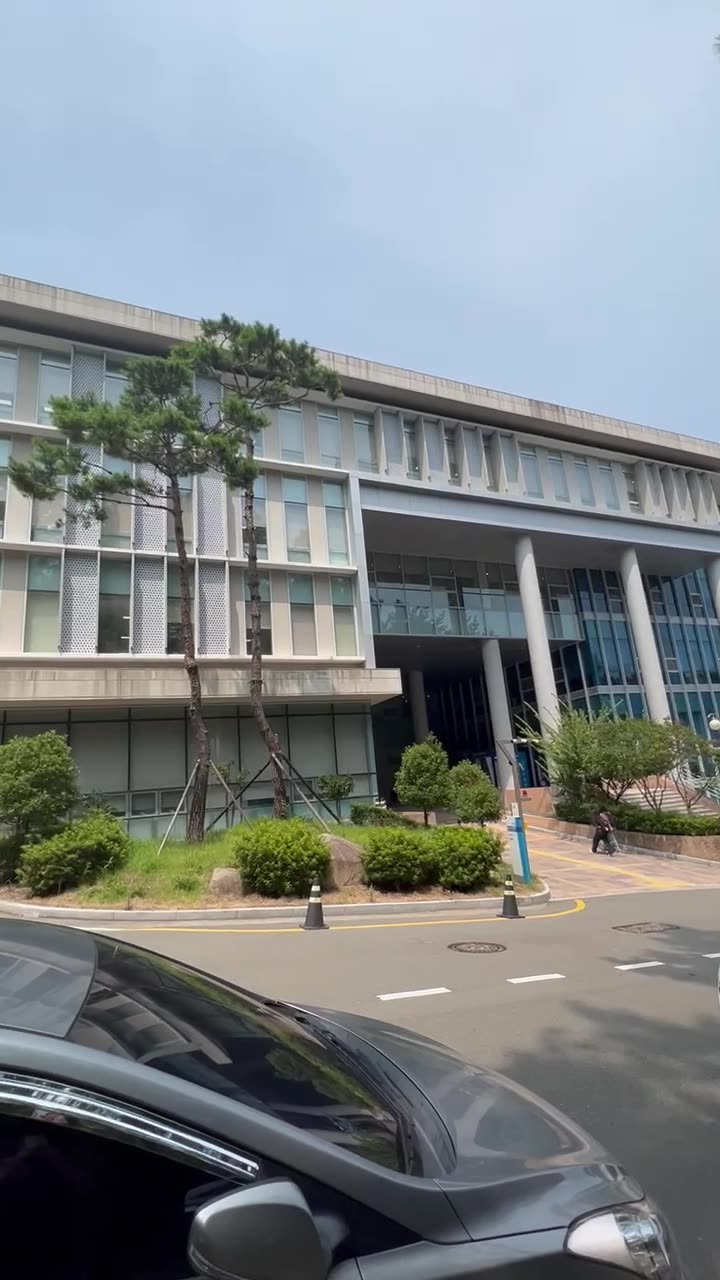low: (296, 366, 720, 744)
